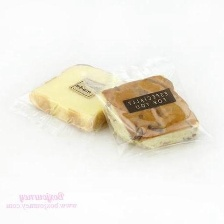snack: (77, 53, 223, 166), (12, 57, 140, 141)
